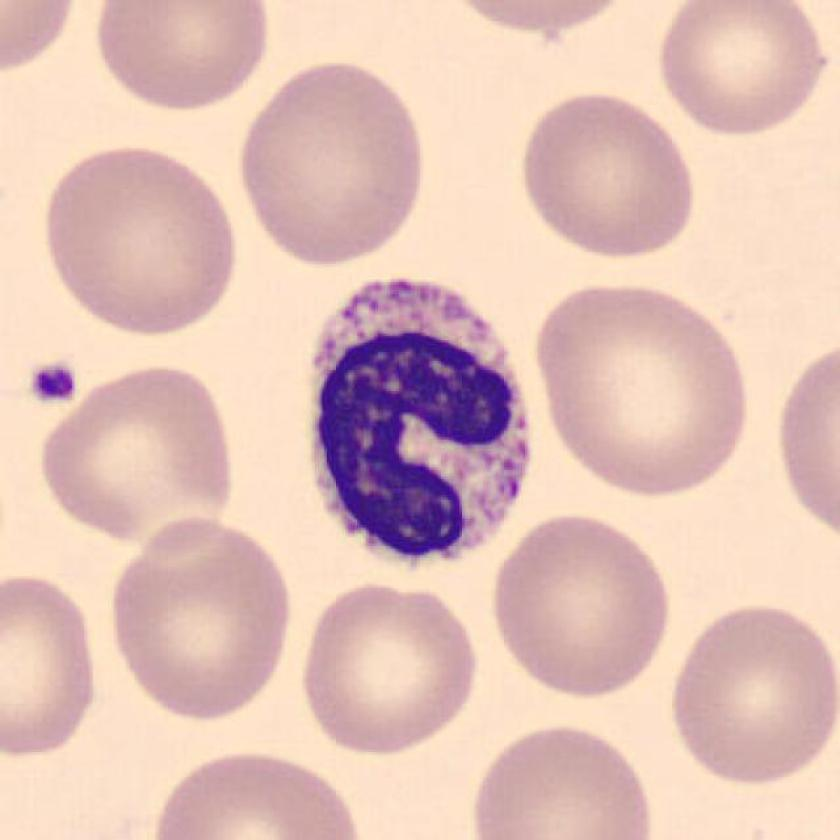neutrophil: (310, 284, 532, 566)
